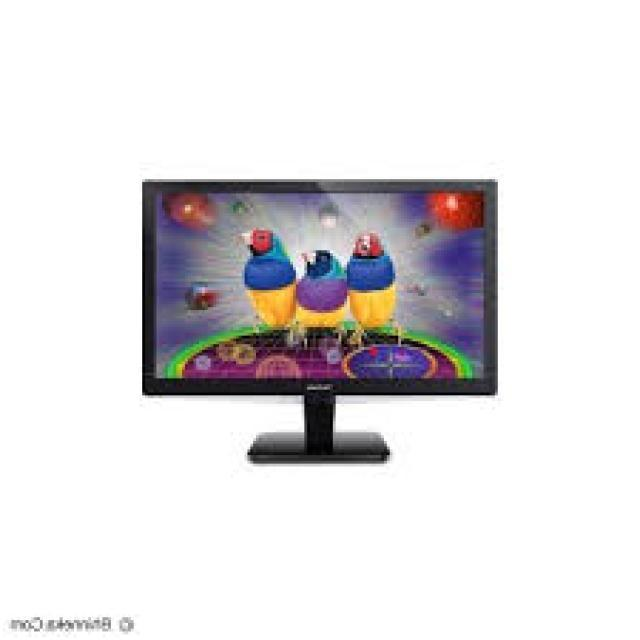monitor: (117, 165, 503, 492)
